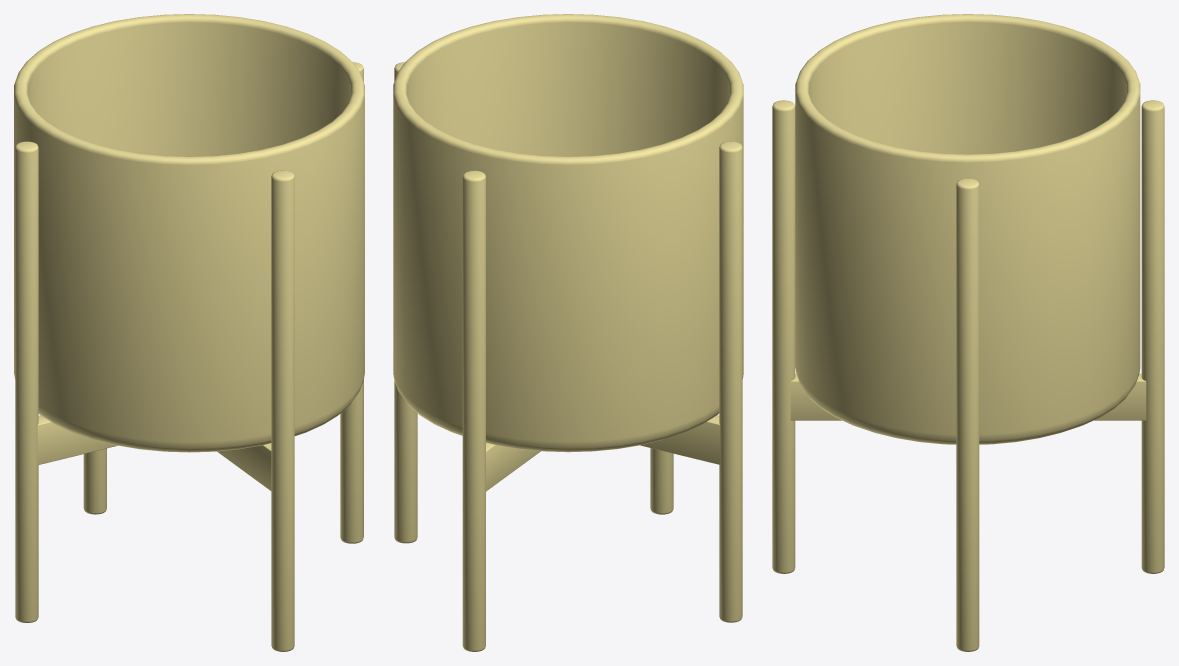
The picture shows the model from 3 angles, left to right: view 1: azimuth 30°, elevation 25°; view 2: azimuth 150°, elevation 25°; view 3: azimuth 270°, elevation 25°; orthographic projection.
Visible parts, largest first — view 1: Cylinder001; view 2: Cylinder001; view 3: Cylinder001.
Part boxes in pixels (x1,y1,x2,y2): Cylinder001: (14,14,364,651); Cylinder001: (393,14,743,651); Cylinder001: (772,14,1164,651).
Bounding box in the file's own units: 0.3741 × 0.3742 × 0.51.
